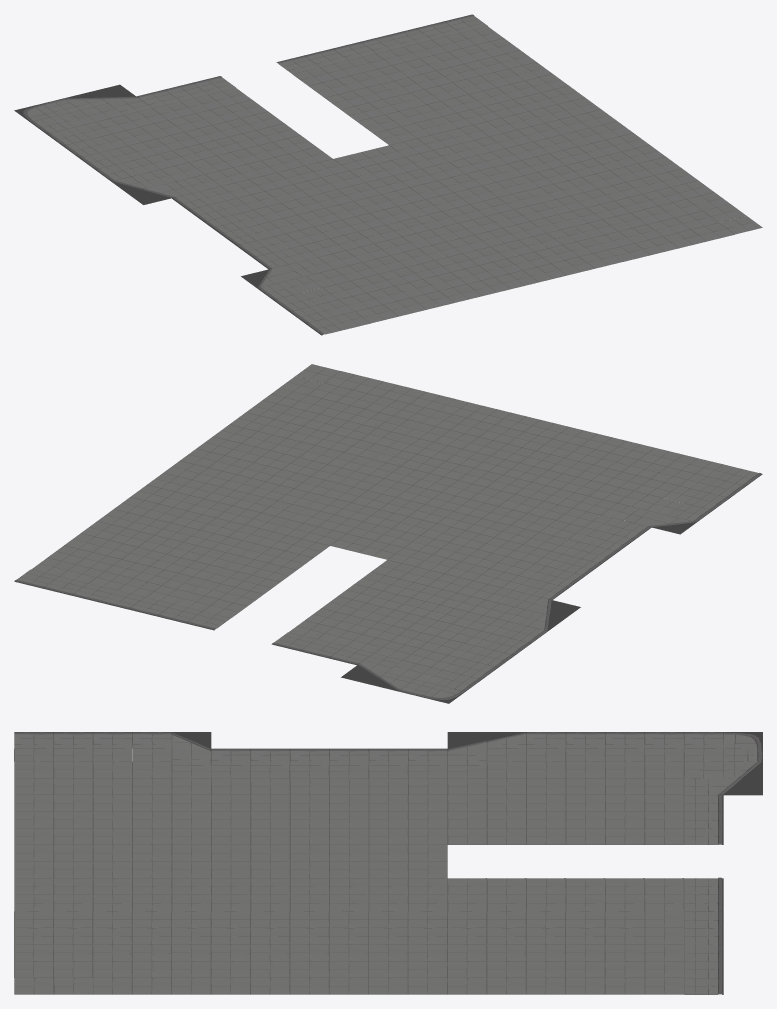
Rendered from SidewalkStraight.glb.
The picture shows the model from 3 angles, top to bottom: view 1: azimuth 30°, elevation 25°; view 2: azimuth 150°, elevation 25°; view 3: azimuth 270°, elevation 25°; orthographic projection. The views are drawn at different scales.
Parts seen in each view (by area): view 1: SM_Env_Sidewalk_Merger_02_SF__2_, SM_Env_Sidewalk_Merger_02_SF_1, SM_Env_Sidewalk_Merger_01_SF; view 2: SM_Env_Sidewalk_Merger_01_SF, SM_Env_Sidewalk_Merger_02_SF_1, SM_Env_Sidewalk_Merger_02_SF__2_; view 3: SM_Env_Sidewalk_Merger_02_SF__2_, SM_Env_Sidewalk_Merger_01_SF, SM_Env_Sidewalk_Merger_02_SF_1, SM_Env_Sidewalk_01_SF__125___56_, SM_Env_Sidewalk_01_SF__125___66_, SM_Env_Sidewalk_01_SF__129___72_, SM_Env_Sidewalk_01_SF__135___66_, SM_Env_Sidewalk_01_SF__136___39_, SM_Env_Sidewalk_01_SF__135___71_, SM_Env_Sidewalk_01_SF__125___53_, SM_Env_Sidewalk_01_SF__125___55_, SM_Env_Sidewalk_01_SF__125___57_ (+257 smaller).
Part boxes in pixels (left/top/right/bottom): SM_Env_Sidewalk_Merger_02_SF__2_: left=92, top=84, right=151, bottom=114; SM_Env_Sidewalk_Merger_02_SF_1: left=127, top=180, right=198, bottom=204; SM_Env_Sidewalk_Merger_01_SF: left=241, top=262, right=312, bottom=287; SM_Env_Sidewalk_Merger_01_SF: left=623, top=508, right=696, bottom=534; SM_Env_Sidewalk_Merger_02_SF_1: left=508, top=593, right=580, bottom=618; SM_Env_Sidewalk_Merger_02_SF__2_: left=341, top=653, right=401, bottom=684; SM_Env_Sidewalk_Merger_02_SF__2_: left=684, top=778, right=762, bottom=795; SM_Env_Sidewalk_Merger_01_SF: left=172, top=732, right=211, bottom=765; SM_Env_Sidewalk_Merger_02_SF_1: left=447, top=732, right=486, bottom=765; SM_Env_Sidewalk_01_SF__125___56_: left=486, top=944, right=526, bottom=961; SM_Env_Sidewalk_01_SF__125___66_: left=92, top=944, right=132, bottom=961; SM_Env_Sidewalk_01_SF__129___72_: left=644, top=811, right=684, bottom=828; SM_Env_Sidewalk_01_SF__135___66_: left=250, top=811, right=290, bottom=828; SM_Env_Sidewalk_01_SF__136___39_: left=644, top=761, right=684, bottom=778; SM_Env_Sidewalk_01_SF__135___71_: left=250, top=861, right=290, bottom=878; SM_Env_Sidewalk_01_SF__125___53_: left=605, top=944, right=644, bottom=961; SM_Env_Sidewalk_01_SF__125___55_: left=526, top=944, right=565, bottom=961; SM_Env_Sidewalk_01_SF__125___57_: left=447, top=944, right=486, bottom=961.
Size of the model in its own units: 78.88 by 0.116 by 95.03.
Materials: 1 (1 with a texture image).
